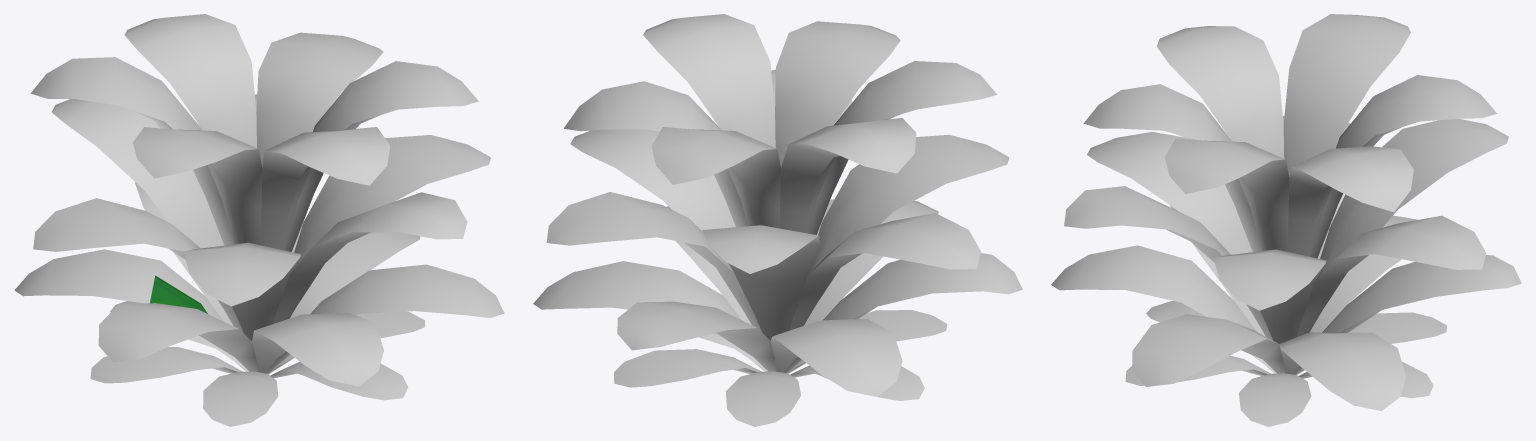
Rendered from grass.obj.
3 views of the same model, side by side, from view 1: azimuth 30°, elevation 25°; view 2: azimuth 150°, elevation 25°; view 3: azimuth 270°, elevation 25° (orthographic). The views are drawn at different scales.
Parts seen in each view (by area): view 1: GrassTop__MI_Grass_01, GrassBase__MI_Grass_01, GrassTop__MI_Grass_01.001_Mesh.001; view 2: GrassTop__MI_Grass_01, GrassBase__MI_Grass_01; view 3: GrassTop__MI_Grass_01, GrassBase__MI_Grass_01.
Boxes of the visible parts, x1=… form: GrassTop__MI_Grass_01: x1=14, y1=14, x2=504, y2=386; GrassBase__MI_Grass_01: x1=90, y1=301, x2=424, y2=426; GrassTop__MI_Grass_01.001_Mesh.001: x1=150, y1=275, x2=207, y2=313; GrassTop__MI_Grass_01: x1=533, y1=14, x2=1022, y2=396; GrassBase__MI_Grass_01: x1=614, y1=310, x2=947, y2=426; GrassTop__MI_Grass_01: x1=1051, y1=14, x2=1521, y2=411; GrassBase__MI_Grass_01: x1=1125, y1=301, x2=1446, y2=426.
Size of the model in its own units: 0.0379 by 0.0262 by 0.0374.
